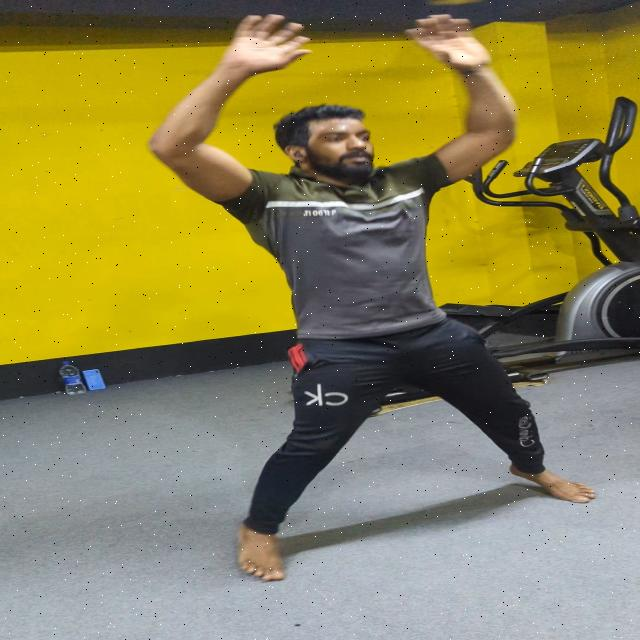Normal_JumpingJacks: (87, 10, 579, 596)
